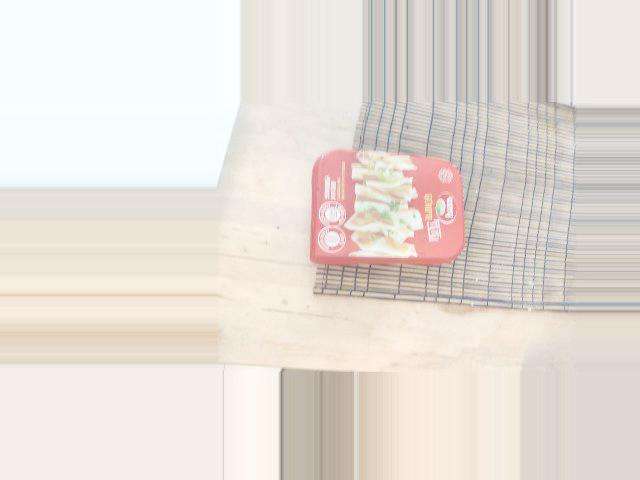cheese: (307, 141, 475, 246)
